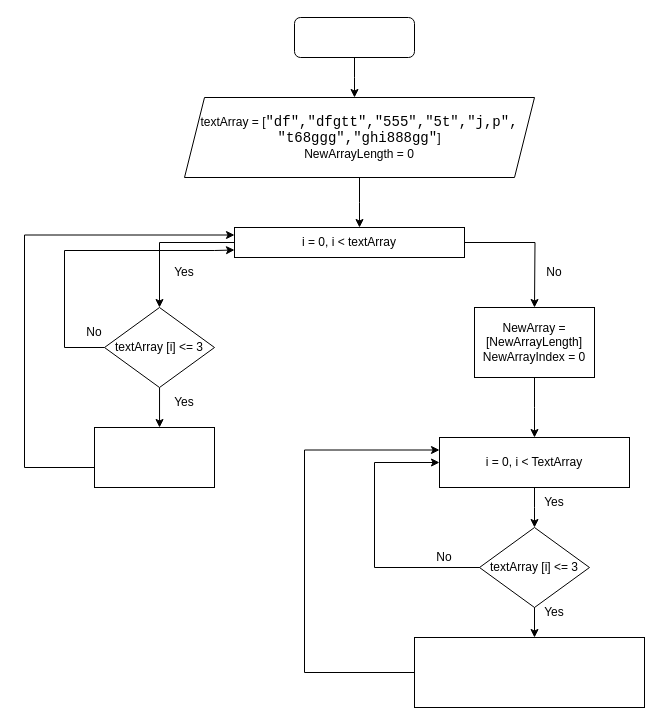
Image size: 662x725. Some labels were removed from this diagram. Each missing label, with the box of its shape:
NewArray [NewArrayIndex] = textArray [i] NewArrayIndex + 1: (414, 636, 644, 708)
NewArrayLength +1: (94, 426, 214, 488)
Start: (294, 16, 414, 58)
